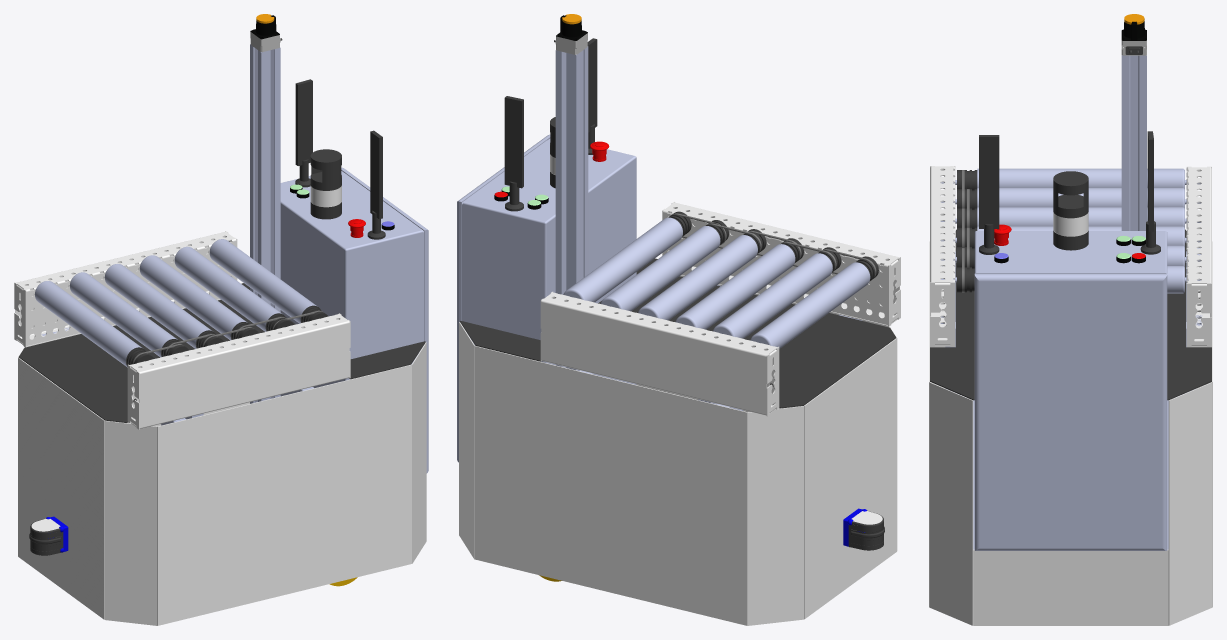
The model's file is AssJackNamedAndGrouped.obj.
3 views of the same model, side by side, from view 1: azimuth 30°, elevation 25°; view 2: azimuth 150°, elevation 25°; view 3: azimuth 270°, elevation 25° (orthographic). The views are drawn at different scales.
Visible parts, largest first — view 1: _Frame, RailSystemSupport2, Roller1, Roller5, Roller3, Roller4, Roller2, Roller6; view 2: _Frame, RailSystemSupport2, Roller1, Roller4, Roller5, Roller2, Roller6, Roller3; view 3: _Frame, RailSystemSupport2, Roller1, Roller2, Roller3, Roller4, Roller6, Roller5.
Boxes of the visible parts, <box> form: _Frame: <box>18,14,428,625</box>; RailSystemSupport2: <box>14,231,350,429</box>; Roller1: <box>35,281,153,367</box>; Roller5: <box>174,246,293,331</box>; Roller3: <box>104,264,223,348</box>; Roller4: <box>139,255,258,340</box>; Roller2: <box>69,272,188,357</box>; Roller6: <box>209,239,328,323</box>; _Frame: <box>457,14,897,625</box>; RailSystemSupport2: <box>540,201,900,416</box>; Roller1: <box>750,256,878,348</box>; Roller4: <box>638,229,766,320</box>; Roller5: <box>600,220,728,311</box>; Roller2: <box>713,247,841,338</box>; Roller6: <box>563,211,691,302</box>; Roller3: <box>675,238,803,329</box>; _Frame: <box>929,14,1212,625</box>; RailSystemSupport2: <box>930,166,1211,347</box>; Roller1: <box>941,168,1200,190</box>; Roller2: <box>941,188,1201,209</box>; Roller3: <box>940,207,1200,228</box>; Roller4: <box>940,226,1201,248</box>; Roller6: <box>940,266,1201,293</box>; Roller5: <box>941,245,1200,268</box>.
Bounding box in the file's own units: 0.918 × 1.24 × 0.56.
